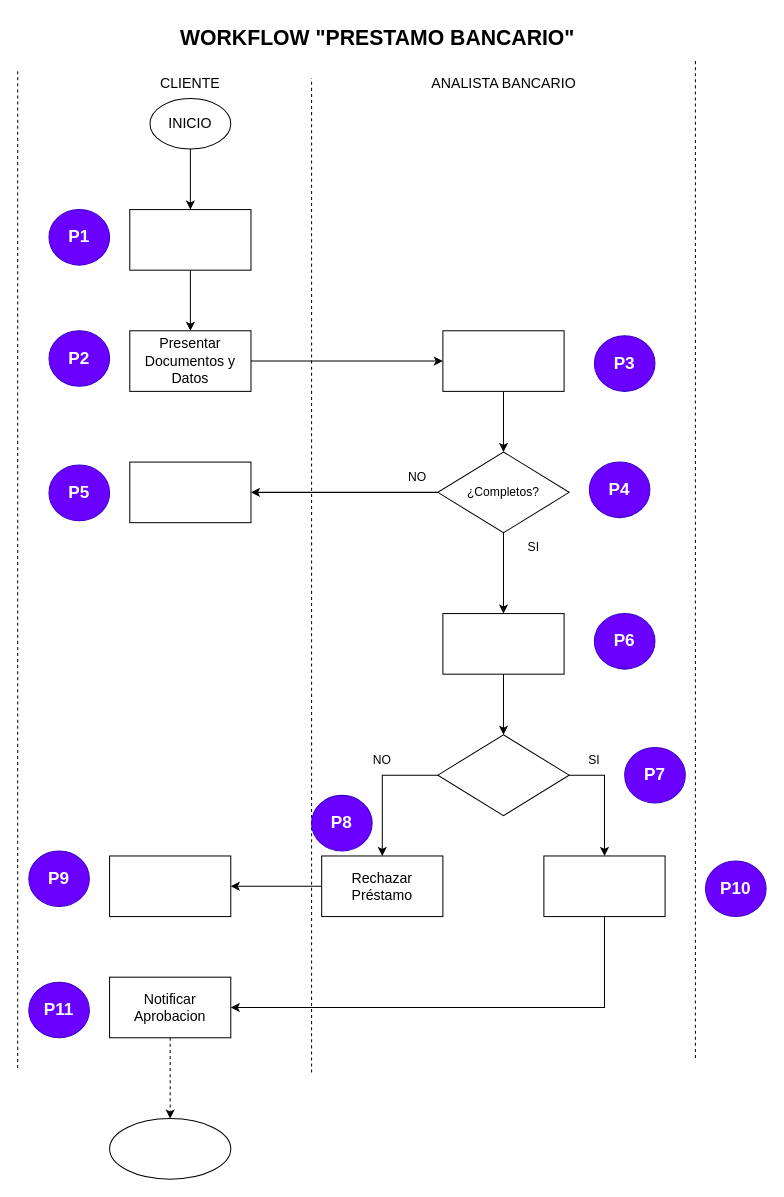
Some shapes in this 784 by 1197 pixel diagram are drawn without their labels. The centre of each missing label's shape, as x and y in pixels:
"Autorizar Préstamo" goes at (604,886).
"Evaluar Solicitud" goes at (503,643).
"FIN" goes at (170,1148).
"Notificar Datos Faltantes" goes at (190,492).
"Notificar Observaciones Rechazo" goes at (170,886).
"Presentar Solicitud" goes at (190,239).
"Revisar datos del cliente" goes at (503,360).
"¿Solicitud Aprobada?" goes at (503,775).
